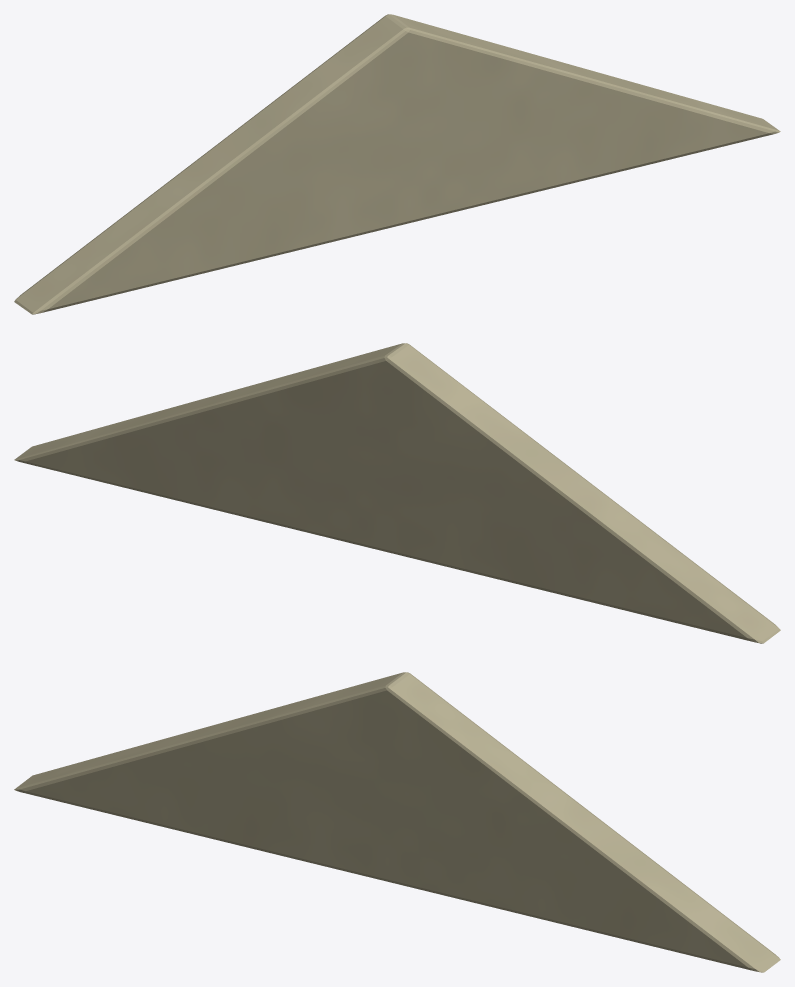
Rendered from AR_Gable_2m.glb.
The picture shows the model from 3 angles, top to bottom: view 1: azimuth 30°, elevation 25°; view 2: azimuth 150°, elevation 25°; view 3: azimuth 330°, elevation 25°; orthographic projection.
Visible parts, largest first — view 1: AR_Gable_2m; view 2: AR_Gable_2m; view 3: AR_Gable_2m.
Part boxes in pixels (x1,y1,x2,y2): AR_Gable_2m: (14, 14, 780, 314); AR_Gable_2m: (14, 343, 780, 643); AR_Gable_2m: (14, 672, 780, 972).
Bounding box in the file's own units: 1.99 × 0.4996 × 0.1008.
Materials: 1 (1 with a texture image).
